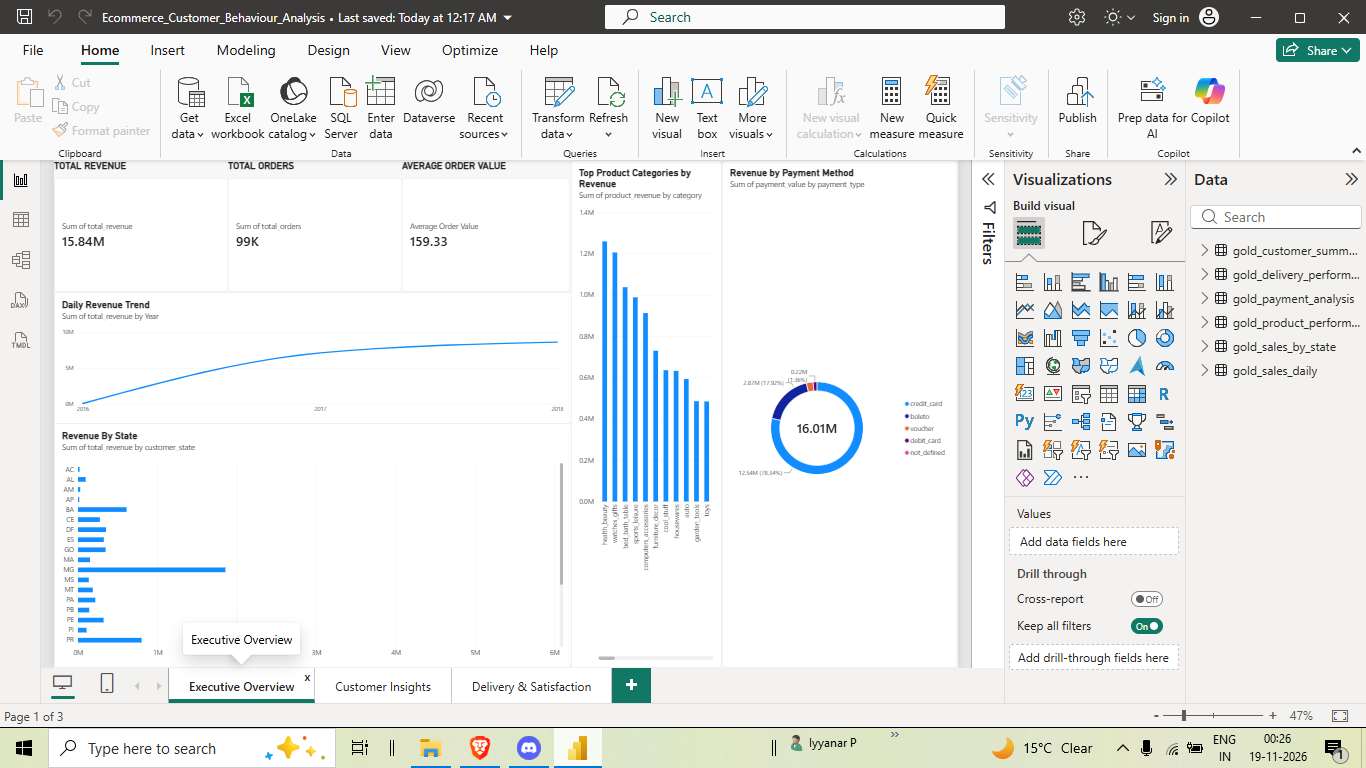

This screenshot's page, from the dashboard's own definition file:
{"tool":"powerbi","page":{"name":"Executive Overview","canvas":[1920,1080],"ordinal":0},"visuals":[{"type":"cardVisual","title":"TOTAL REVENUE","fields":{"Data":["Sum(gold_sales_daily.total_revenue)"]},"box":[0,0,370,280],"z":0},{"type":"cardVisual","title":"TOTAL ORDERS","fields":{"Data":["Sum(gold_sales_daily.total_orders)"]},"box":[370,0,370,280],"z":1000},{"type":"cardVisual","title":"AVERAGE ORDER VALUE","fields":{"Data":["gold_customer_summary.Average Order Value"]},"box":[740,0,357.5,280],"z":2000},{"type":"lineChart","title":"Daily Revenue Trend ","fields":{"Category":["gold_sales_daily.purchase_date.Variation.Date Hierarchy.Year","gold_sales_daily.purchase_date.Variation.Date Hierarchy.Quarter","gold_sales_daily.purchase_date.Variation.Date Hierarchy.Month","gold_sales_daily.purchase_date.Variation.Date Hierarchy.Day"],"Y":["Sum(gold_sales_daily.total_revenue)"]},"box":[0,280,1100,280],"z":3000},{"type":"clusteredBarChart","title":"Revenue By State","fields":{"Category":["gold_sales_by_state.customer_state"],"Y":["Sum(gold_sales_by_state.total_revenue)"]},"box":[0,560,1100,520],"z":4000},{"type":"clusteredColumnChart","title":"Top Product Categories by Revenue","fields":{"Category":["gold_product_performance.category"],"Y":["Sum(gold_product_performance.product_revenue)"]},"box":[1100,0,320,1080],"z":5000},{"type":"donutChart","title":"Revenue by Payment Method","fields":{"Category":["gold_payment_analysis.payment_type"],"Y":["Sum(gold_payment_analysis.payment_value)"]},"box":[1420,0,500,1080],"z":6000}]}

Visuals, with their boxes on the page's 1920x1080 design canvas (x1, y1, x2, y2). These are canvas units, not pixel positions in the 1366x768 screenshot, which may show the page scaled, cropped or inside an application window:
"TOTAL REVENUE" cardVisual: crop(0, 0, 370, 280)
"TOTAL ORDERS" cardVisual: crop(370, 0, 740, 280)
"AVERAGE ORDER VALUE" cardVisual: crop(740, 0, 1098, 280)
"Daily Revenue Trend " lineChart: crop(0, 280, 1100, 560)
"Revenue By State" clusteredBarChart: crop(0, 560, 1100, 1080)
"Top Product Categories by Revenue" clusteredColumnChart: crop(1100, 0, 1420, 1080)
"Revenue by Payment Method" donutChart: crop(1420, 0, 1920, 1080)
